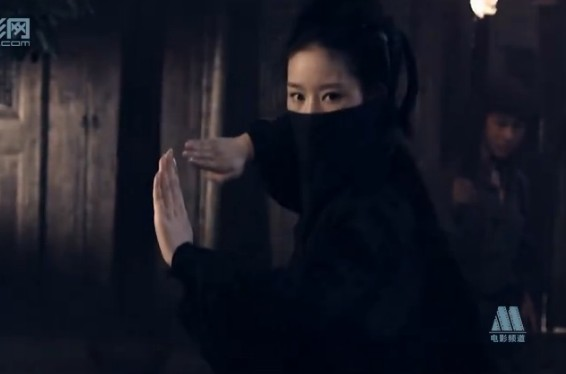face_mask: (286, 52, 357, 154)
